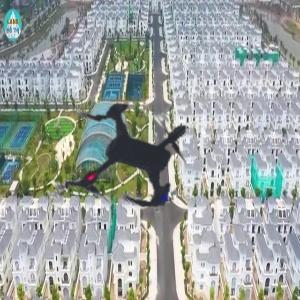drone: (1, 18, 268, 285)
